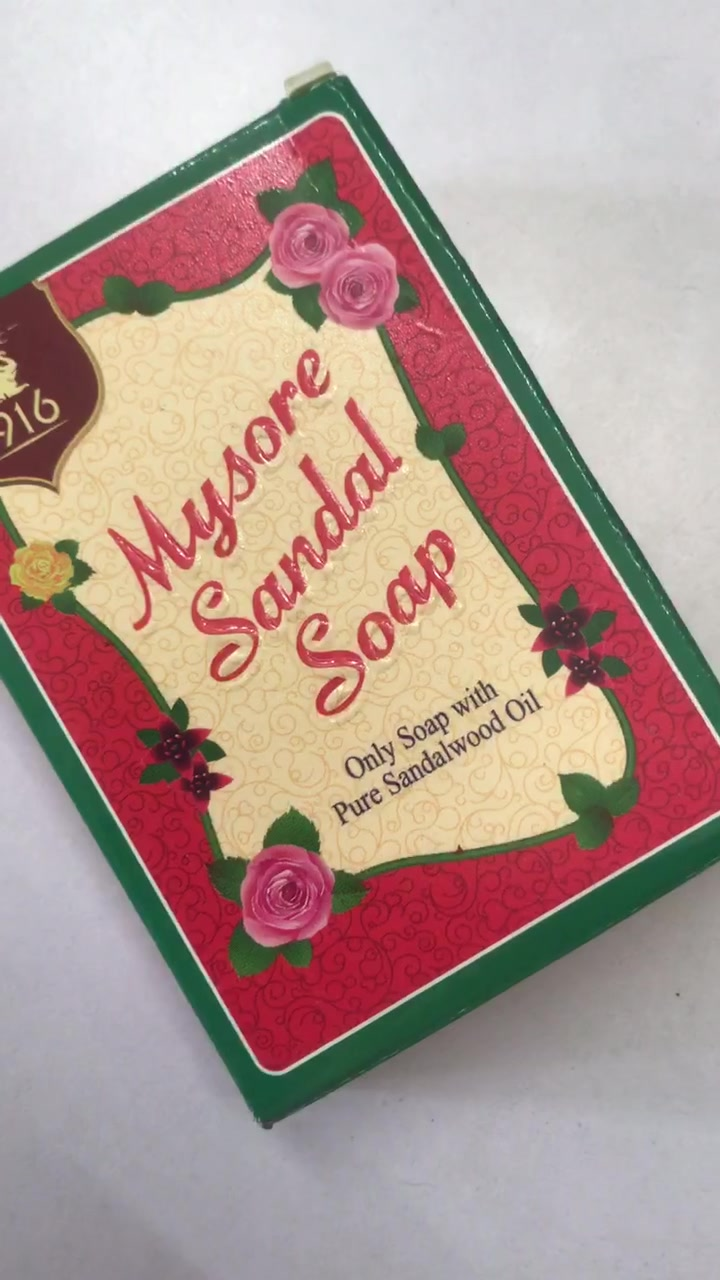mysore sandal soap: (2, 91, 709, 1123)
